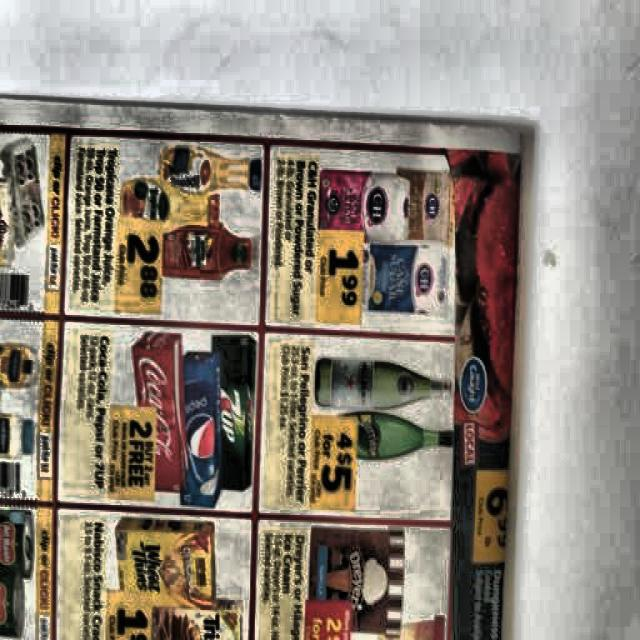paper: (0, 86, 530, 640)
